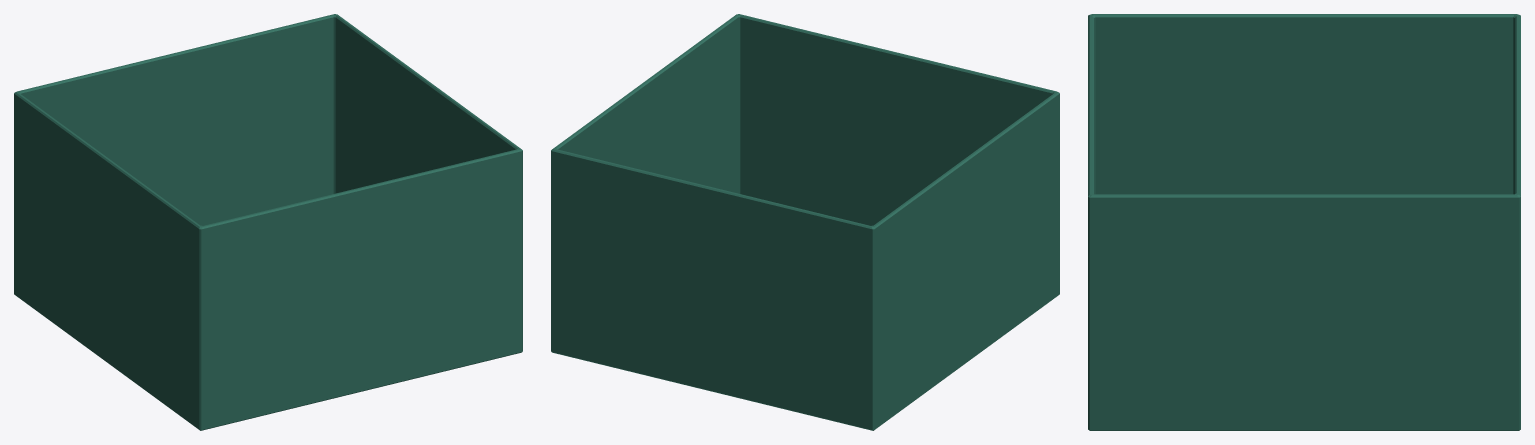
The model's file is DecorativeBox1.glb.
3 views of the same model, side by side, from view 1: azimuth 30°, elevation 25°; view 2: azimuth 150°, elevation 25°; view 3: azimuth 270°, elevation 25° (orthographic). The views are drawn at different scales.
Size of the model in its own units: 0.2986 by 0.1793 by 0.2986.
